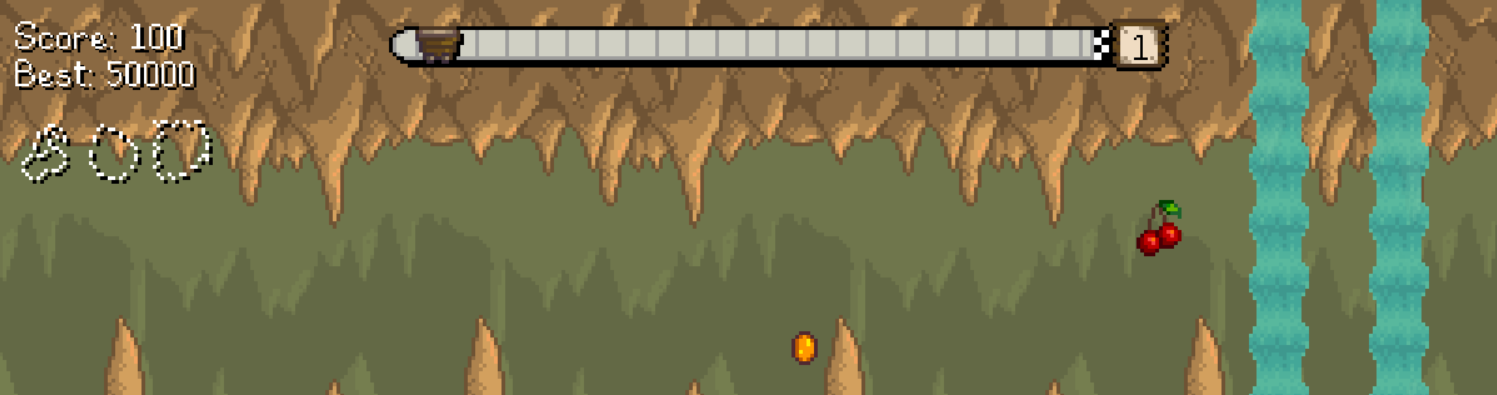cherry: (1133, 191, 1185, 259)
coins: (793, 331, 816, 364)
